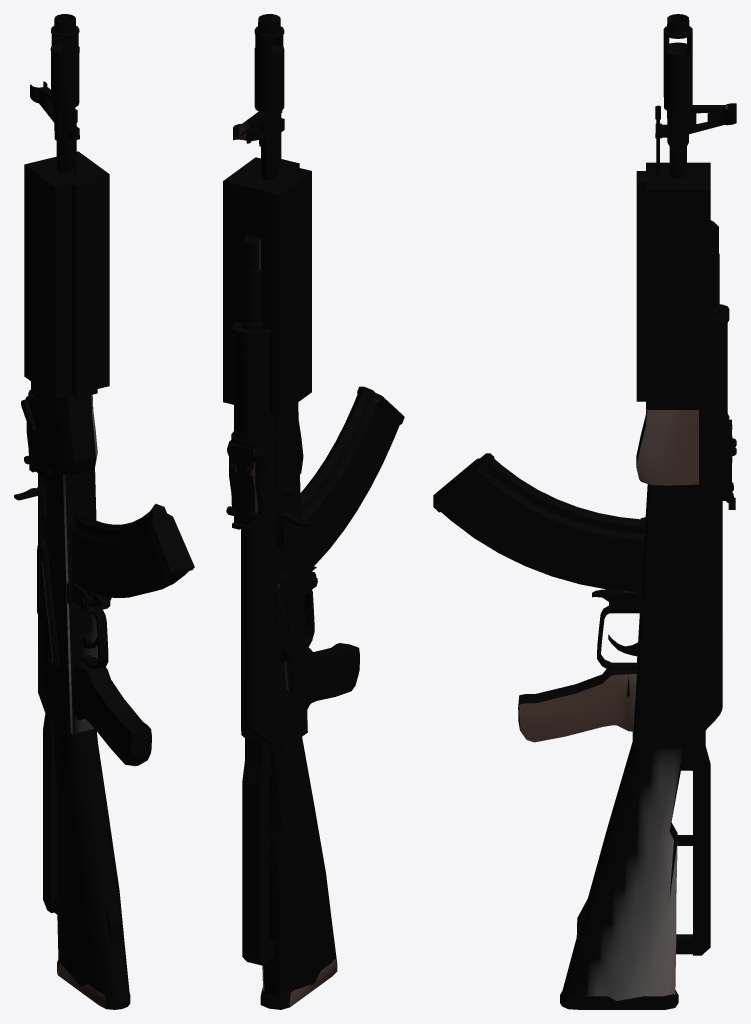
The model's file is AK74__Handguard_AK_Quad__Stock_AK_Folding.fbx.
The picture shows the model from 3 angles, left to right: view 1: azimuth 30°, elevation 25°; view 2: azimuth 150°, elevation 25°; view 3: azimuth 270°, elevation 25°; orthographic projection. The views are drawn at different scales.
Visible parts, largest first — view 1: asset_AK74.001; view 2: asset_AK74.001; view 3: asset_AK74.001.
Boxes of the visible parts, bbox=[...] form: asset_AK74.001: bbox=[14, 14, 194, 1009]; asset_AK74.001: bbox=[223, 14, 404, 1009]; asset_AK74.001: bbox=[433, 14, 736, 1009].
Size of the model in its own units: 0.046 by 0.564 by 0.1574.
